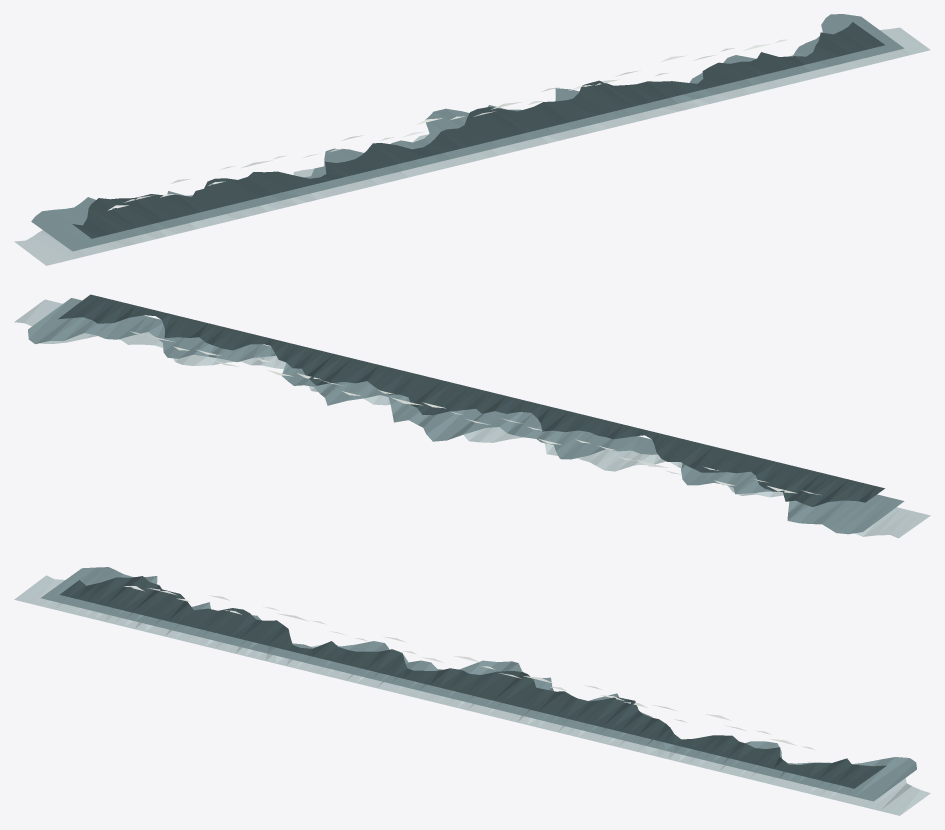
Rendered from hl-mountain-backdrop-v1.glb.
3 renders of one model, top to bottom at view 1: azimuth 30°, elevation 25°; view 2: azimuth 150°, elevation 25°; view 3: azimuth 330°, elevation 25°, orthographic.
Visible parts, largest first — view 1: HL mountain near dark ridge, HL mountain mid hazy ridge, HL mountain far pale ridge, HL mountain subtle snow caps; view 2: HL mountain near dark ridge, HL mountain mid hazy ridge, HL mountain far pale ridge, HL mountain subtle snow caps; view 3: HL mountain near dark ridge, HL mountain mid hazy ridge, HL mountain far pale ridge, HL mountain subtle snow caps.
Boxes of the visible parts, bbox=[...] form: HL mountain near dark ridge: bbox=[72, 22, 885, 238]; HL mountain mid hazy ridge: bbox=[31, 14, 904, 251]; HL mountain far pale ridge: bbox=[14, 27, 930, 265]; HL mountain subtle snow caps: bbox=[108, 39, 788, 210]; HL mountain near dark ridge: bbox=[58, 294, 884, 507]; HL mountain mid hazy ridge: bbox=[28, 298, 904, 534]; HL mountain far pale ridge: bbox=[14, 299, 930, 538]; HL mountain subtle snow caps: bbox=[130, 331, 821, 495]; HL mountain near dark ridge: bbox=[60, 576, 886, 788]; HL mountain mid hazy ridge: bbox=[40, 567, 916, 801]; HL mountain far pale ridge: bbox=[14, 575, 930, 815]; HL mountain subtle snow caps: bbox=[124, 586, 815, 750].
Bounding box in the file's own units: 1850 × 39.93 × 200.
